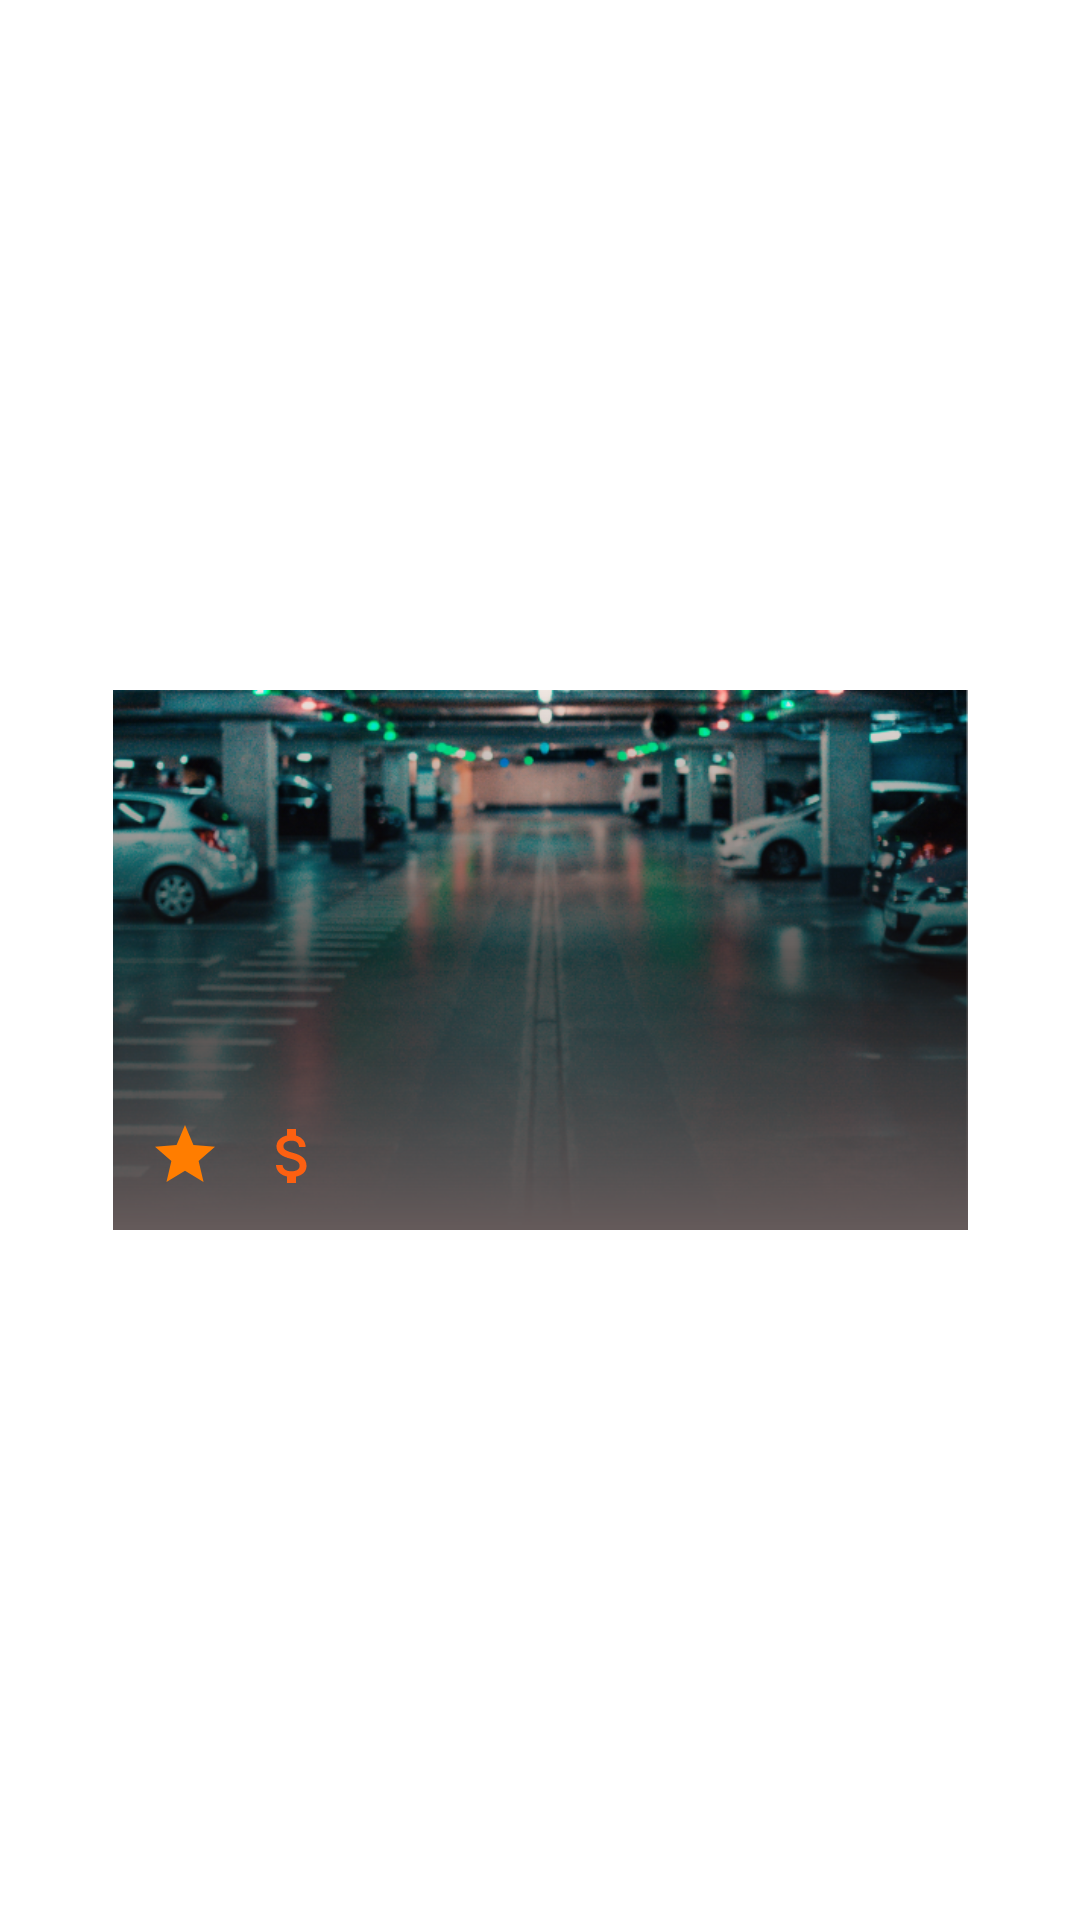

Screen size 1080x1920. Icon name, then its box in pixels as (left=x1, top=y1, right=x2, bottom=y2):
money: (left=257, top=1120, right=329, bottom=1183)
star: (left=155, top=1125, right=215, bottom=1182)
